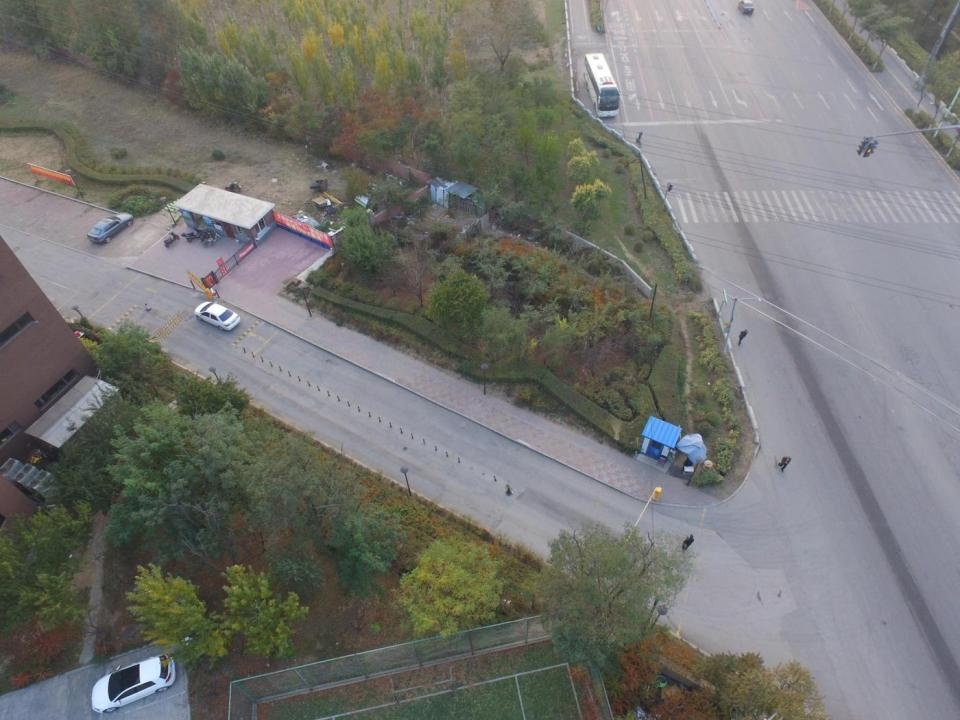bus: (583, 52, 620, 117)
car: (90, 654, 176, 714), (87, 212, 134, 242), (194, 301, 239, 331), (739, 0, 756, 15)
